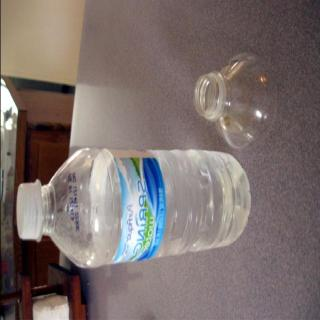Anorganik: (12, 143, 250, 264)
